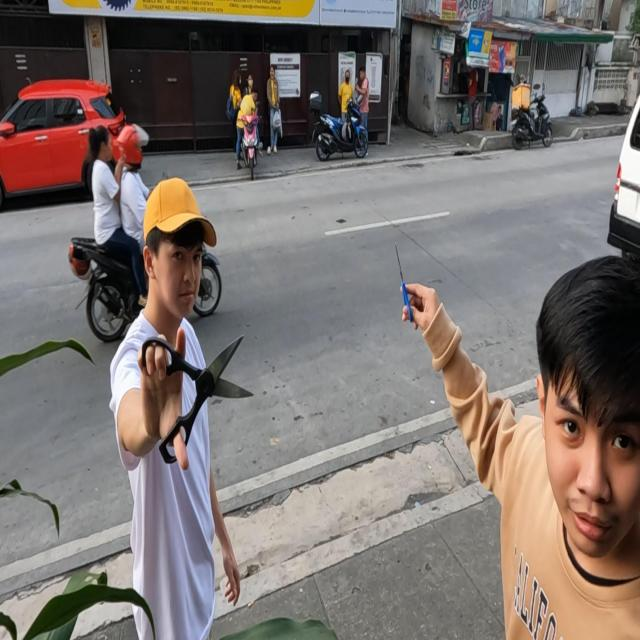scissor: (141, 333, 256, 465), (396, 243, 414, 322)
